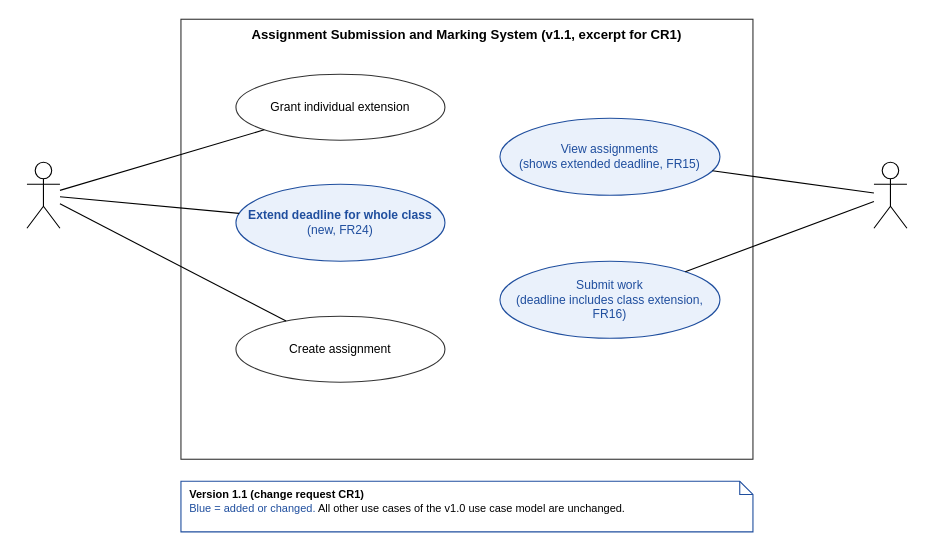
Image size: 932x551. Some labels were removed from this diagram. The centre of each missing label's shape, as x and y in pixels:
"Lecturer" goes at pixel 43 194.
"Student" goes at pixel 890 194.
